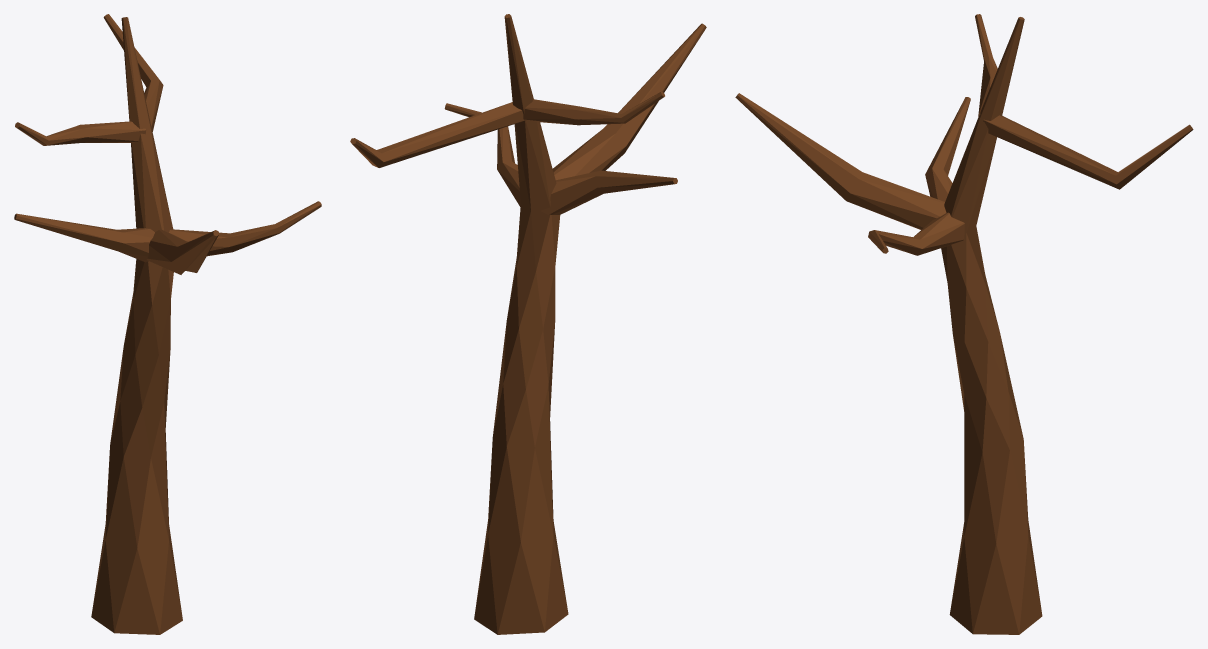
File: Tree.fbx
The picture shows the model from 3 angles, left to right: view 1: azimuth 30°, elevation 25°; view 2: azimuth 150°, elevation 25°; view 3: azimuth 270°, elevation 25°; orthographic projection. The views are drawn at different scales.
Visible parts, largest first — view 1: Tree, Tree.003, Tree.002, Tree.004, Tree.001, Tree.005; view 2: Tree, Tree.002, Tree.005, Tree.003, Tree.004, Tree.001; view 3: Tree, Tree.002, Tree.005, Tree.001, Tree.003, Tree.004.
Boxes of the visible parts, bbox=[...] form: Tree: bbox=[91, 17, 182, 634]; Tree.003: bbox=[14, 213, 154, 262]; Tree.002: bbox=[147, 229, 219, 274]; Tree.004: bbox=[15, 121, 146, 145]; Tree.001: bbox=[169, 201, 321, 256]; Tree.005: bbox=[103, 14, 163, 131]; Tree: bbox=[474, 14, 568, 634]; Tree.002: bbox=[552, 23, 706, 179]; Tree.005: bbox=[350, 102, 526, 167]; Tree.003: bbox=[541, 170, 677, 214]; Tree.004: bbox=[523, 91, 664, 125]; Tree.001: bbox=[444, 103, 520, 206]; Tree: bbox=[941, 17, 1042, 634]; Tree.002: bbox=[735, 93, 946, 229]; Tree.005: bbox=[983, 115, 1193, 189]; Tree.001: bbox=[868, 212, 964, 255]; Tree.003: bbox=[925, 97, 970, 201]; Tree.004: bbox=[975, 14, 997, 118].
Bounding box in the file's own units: 109 × 233 × 161.
